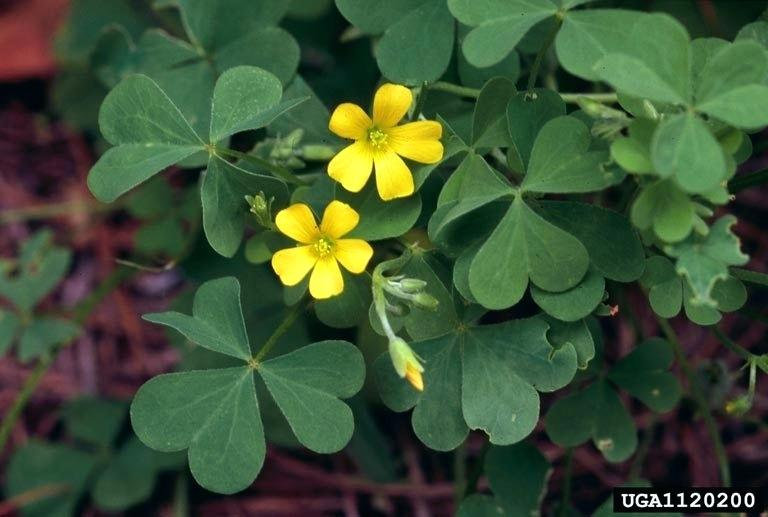oxalis: (370, 13, 768, 437), (66, 38, 307, 247), (131, 265, 367, 471)
